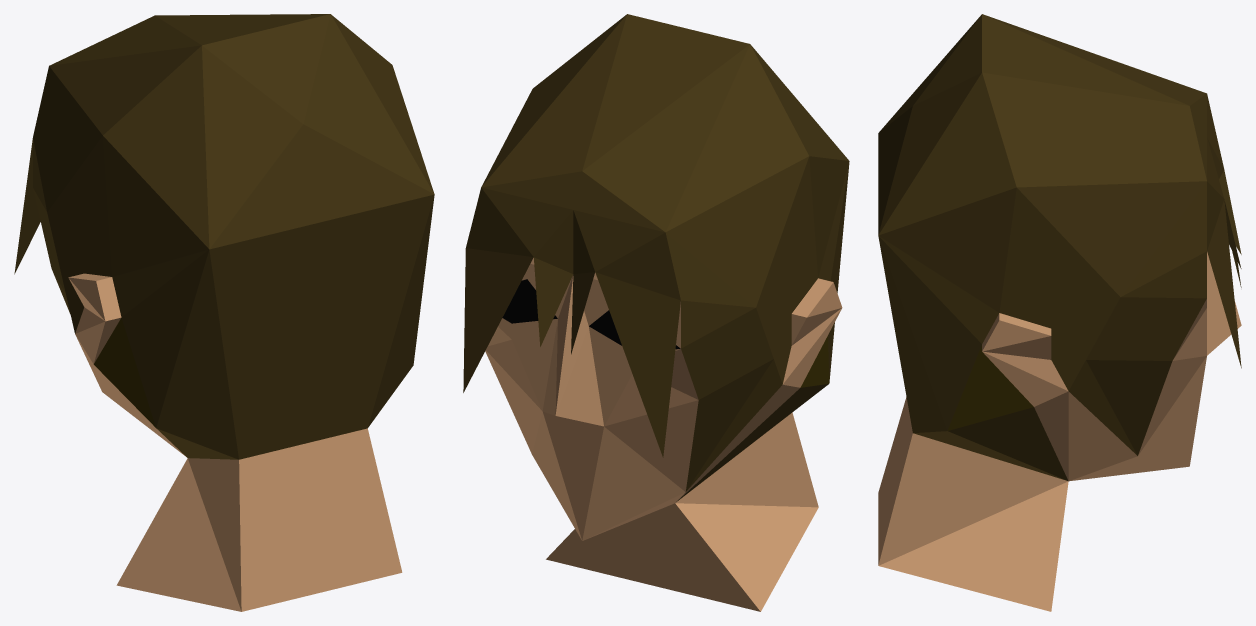
The model's file is player_female_head_49_0.obj.
The picture shows the model from 3 angles, left to right: view 1: azimuth 30°, elevation 25°; view 2: azimuth 150°, elevation 25°; view 3: azimuth 270°, elevation 25°; orthographic projection. The views are drawn at different scales.
Bounding box in the file's own units: 0.1562 × 0.2578 × 0.1641.
